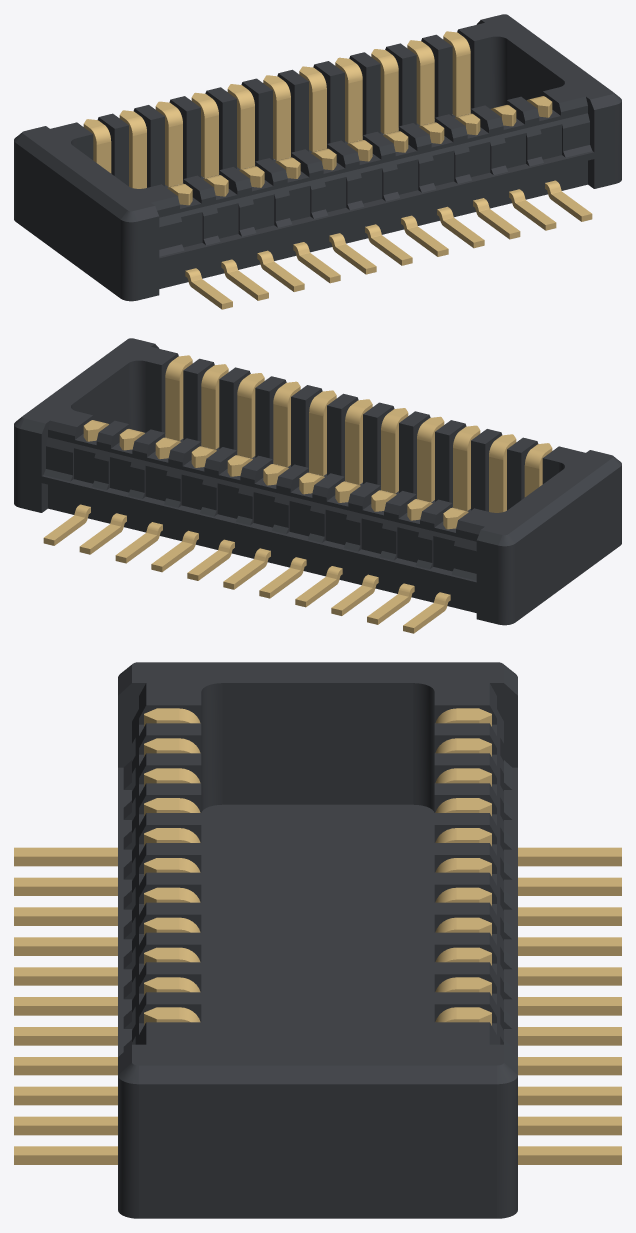
Rendered from kc-molex_slimstack_55560-0221_2x11_p0.50mm_vertical.glb.
3 views of the same model, one above another, from view 1: azimuth 30°, elevation 25°; view 2: azimuth 150°, elevation 25°; view 3: azimuth 270°, elevation 25° (orthographic). The views are drawn at different scales.
Parts seen in each view (by area): view 1: 0.08333333333333333_0.08333333333333333_0.08333333333333333_, 0.75_0.5_0.25_0.9; view 2: 0.08333333333333333_0.08333333333333333_0.08333333333333333_, 0.75_0.5_0.25_0.9; view 3: 0.08333333333333333_0.08333333333333333_0.08333333333333333_, 0.75_0.5_0.25_0.9.
Part boxes in pixels (box(x1,y1,x2,y2)): 0.08333333333333333_0.08333333333333333_0.08333333333333333_: box(14, 14, 621, 301); 0.75_0.5_0.25_0.9: box(83, 31, 592, 309); 0.08333333333333333_0.08333333333333333_0.08333333333333333_: box(14, 338, 621, 625); 0.75_0.5_0.25_0.9: box(43, 355, 552, 633); 0.08333333333333333_0.08333333333333333_0.08333333333333333_: box(118, 662, 517, 1218); 0.75_0.5_0.25_0.9: box(14, 708, 621, 1164).
Size of the model in its own units: 0.695 by 0.115 by 0.43.
